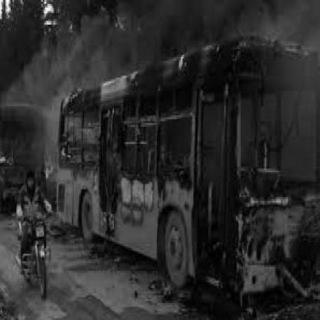Fire: (0, 147, 16, 171)
Smoke: (77, 13, 313, 63)
